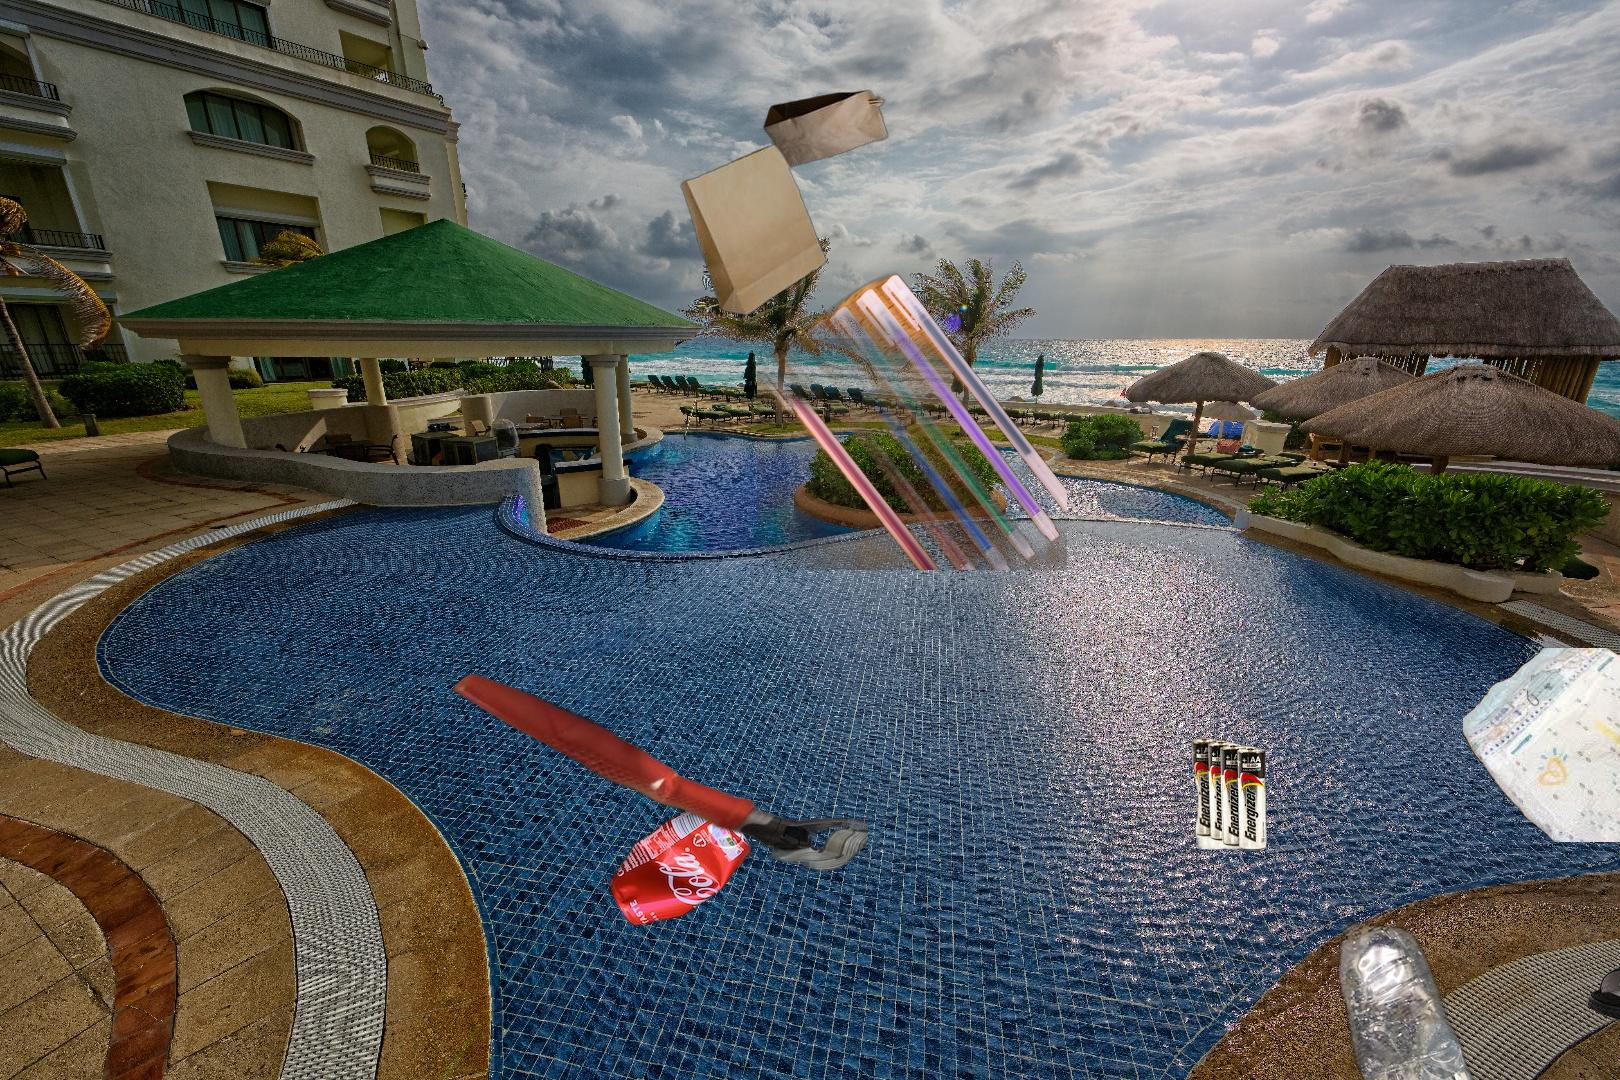battery: (1188, 735, 1270, 855)
metal-cans: (604, 796, 756, 933)
paper: (450, 670, 868, 896)
paper-bag: (677, 87, 891, 319)
penholder: (757, 260, 1067, 570)
plastic-bottles: (1336, 912, 1497, 1080)
shoes: (1586, 900, 1620, 1031)
trash: (1463, 648, 1620, 843)
